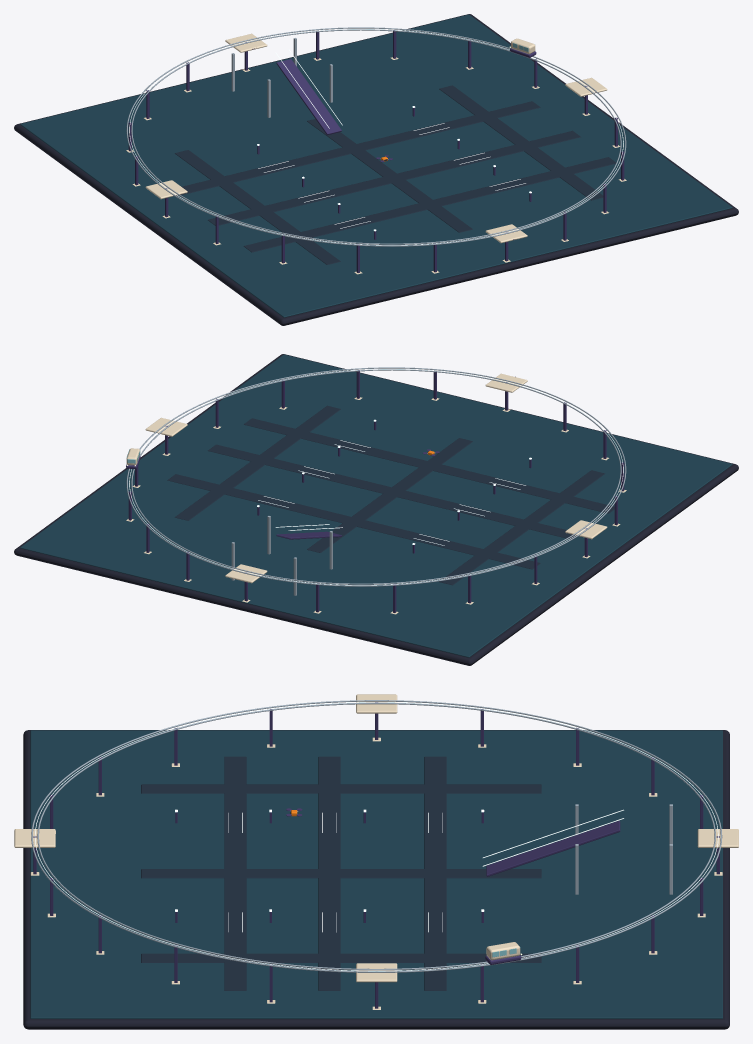
Rendered from transport.glb.
3 renders of one model, top to bottom at view 1: azimuth 30°, elevation 25°; view 2: azimuth 150°, elevation 25°; view 3: azimuth 270°, elevation 25°, orthographic. The views are drawn at different scales.
Visible parts, largest first — view 1: Reflecting lagoon, Floating city base, Glossy east west street.002, Glossy east west street, Glossy east west street.001, Panoramic monorail metal.001, Panoramic monorail metal, Glossy avenue.002, Glossy avenue, Glossy avenue.001, Brain bridge, Panoramic monorail light; view 2: Reflecting lagoon, Floating city base, Glossy east west street, Glossy east west street.001, Glossy east west street.002, Glossy avenue.002, Glossy avenue, Panoramic monorail metal.001, Panoramic monorail metal, Glossy avenue.001, Panoramic monorail light; view 3: Reflecting lagoon, Floating city base, Glossy east west street.001, Glossy east west street, Glossy east west street.002, Glossy avenue, Panoramic monorail metal.001, Panoramic monorail metal, Glossy avenue.002, Glossy avenue.001, Panoramic monorail light, Brain bridge (+4 smaller).
Part boxes in pixels (x1,y1,x2,y2): Reflecting lagoon: (20, 14, 732, 317); Floating city base: (14, 14, 738, 325); Glossy east west street.002: (243, 157, 615, 252); Glossy east west street: (208, 130, 580, 225); Glossy east west street.001: (176, 101, 540, 196); Panoramic monorail metal.001: (126, 27, 626, 246); Panoramic monorail metal: (131, 29, 621, 244); Glossy avenue.002: (439, 85, 603, 200); Glossy avenue: (175, 150, 340, 264); Glossy avenue.001: (307, 119, 472, 232); Brain bridge: (276, 59, 341, 135); Panoramic monorail light: (129, 28, 623, 245); Reflecting lagoon: (20, 354, 732, 657); Floating city base: (14, 354, 738, 665); Glossy east west street: (208, 444, 576, 539); Glossy east west street.001: (167, 474, 540, 569); Glossy east west street.002: (244, 418, 614, 513); Glossy avenue.002: (175, 405, 340, 520); Glossy avenue: (439, 470, 604, 585); Panoramic monorail metal.001: (126, 367, 626, 586); Panoramic monorail metal: (131, 369, 621, 584); Glossy avenue.001: (307, 438, 472, 552); Panoramic monorail light: (129, 368, 623, 585); Reflecting lagoon: (30, 730, 722, 1018); Floating city base: (23, 730, 729, 1029); Glossy east west street.001: (424, 756, 446, 990); Glossy east west street: (318, 756, 340, 990); Glossy east west street.002: (224, 756, 246, 990); Glossy avenue: (141, 784, 541, 793); Panoramic monorail metal.001: (31, 700, 722, 972); Panoramic monorail metal: (37, 702, 715, 970); Glossy avenue.002: (141, 953, 541, 962); Glossy avenue.001: (141, 869, 541, 878); Panoramic monorail light: (34, 702, 718, 971); Brain bridge: (486, 820, 620, 876).
Size of the model in its own units: 59 by 6.6 by 61.54.
